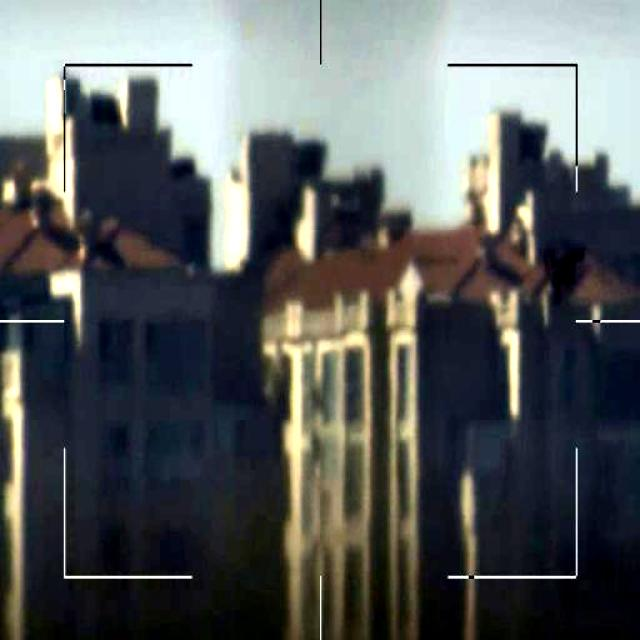bird: (541, 246, 592, 315)
